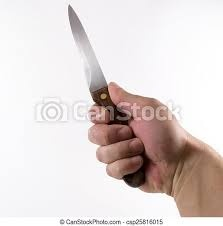knife: (67, 3, 149, 188)
